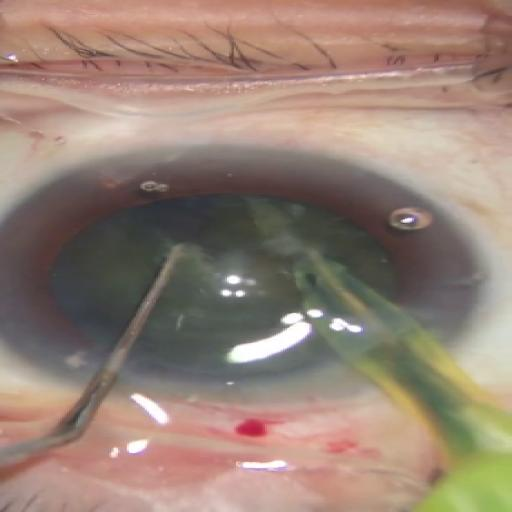catarata: (67, 200, 393, 361)
cornea: (0, 137, 457, 409)
pupil: (53, 195, 397, 370)
